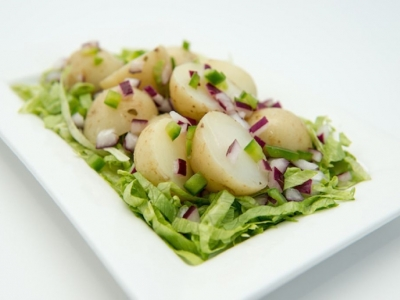boiled potatoes: (75, 52, 301, 173)
chopped lettuce: (117, 187, 310, 249)
